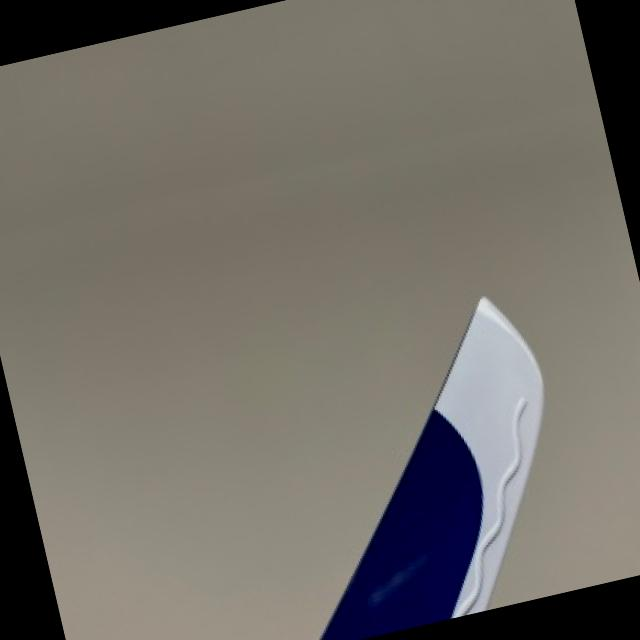healthy: (318, 296, 541, 640)
